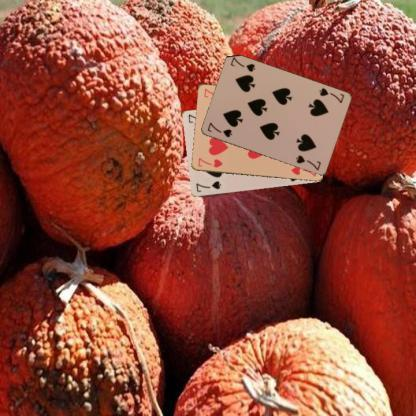7h: (195, 155, 224, 169)
7s: (204, 120, 233, 139), (316, 86, 345, 104), (194, 178, 223, 194)
